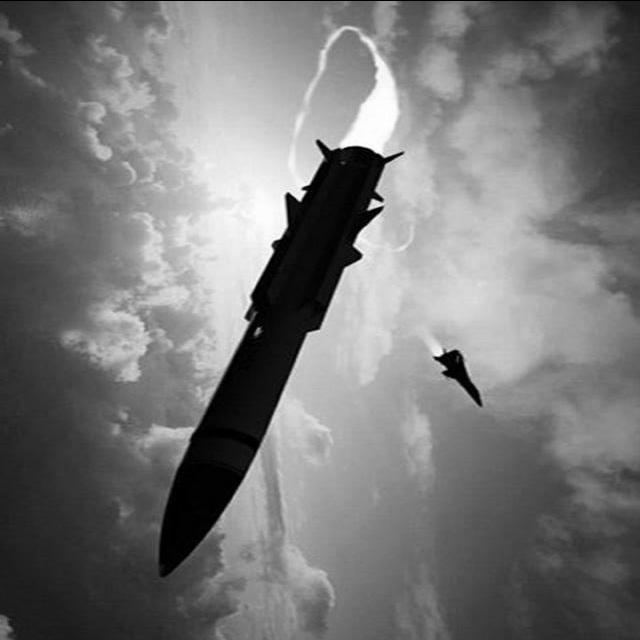missile: (153, 138, 402, 593)
